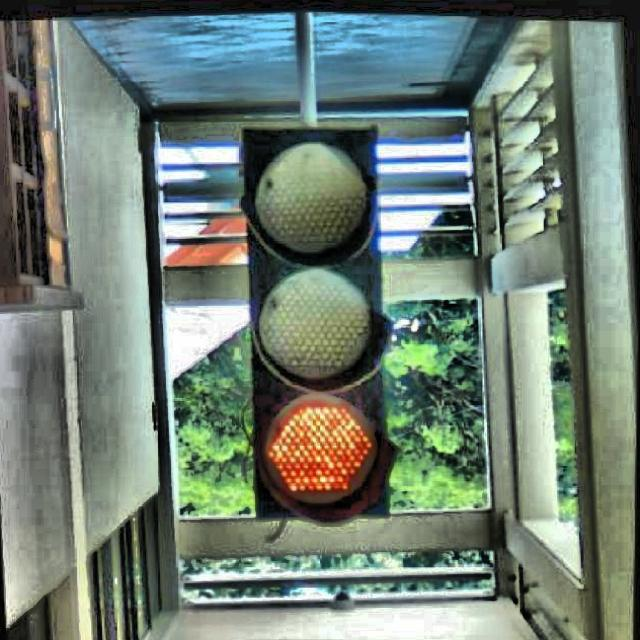red: (240, 130, 394, 524)
